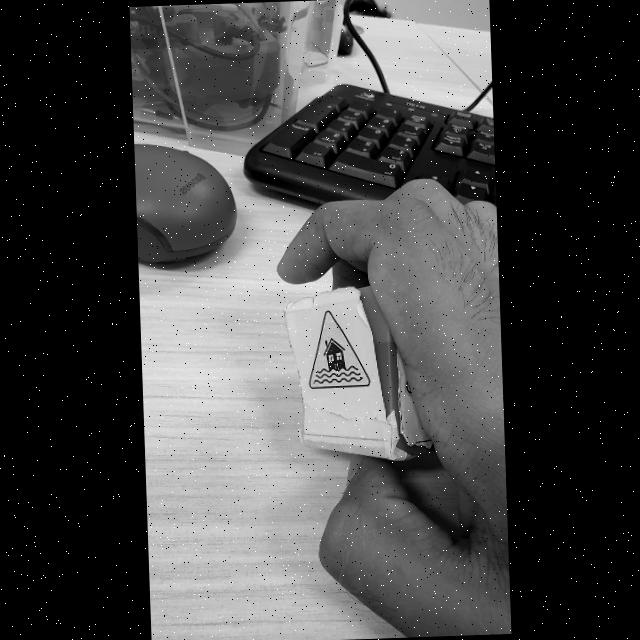Tsunami: (309, 311, 370, 389)
